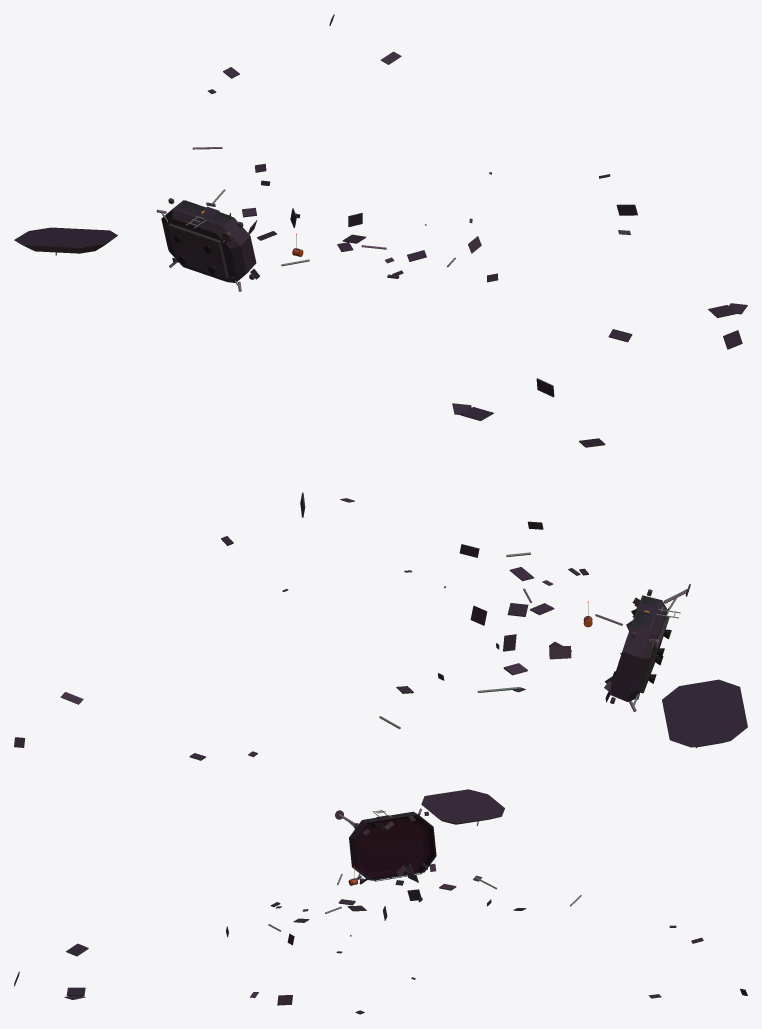
Rendered from miller_wreck.glb.
3 renders of one model, top to bottom at view 1: azimuth 30°, elevation 25°; view 2: azimuth 150°, elevation 25°; view 3: azimuth 270°, elevation 25°, orthographic. The views are drawn at different scales.
Visible parts, largest first — view 1: wreck_hull__m, wreck_debris__m, wreck_roof__m; view 2: wreck_roof__m, wreck_hull__m, wreck_debris__m; view 3: wreck_hull__m, wreck_roof__m, wreck_debris__m.
Part boxes in pixels (<box>): wreck_hull__m: <box>156,198,259,291</box>; wreck_debris__m: <box>192,14,747,349</box>; wreck_roof__m: <box>14,227,117,255</box>; wreck_roof__m: <box>662,679,747,748</box>; wreck_hull__m: <box>604,584,690,711</box>; wreck_debris__m: <box>14,378,622,760</box>; wreck_hull__m: <box>335,808,436,884</box>; wreck_roof__m: <box>421,789,504,825</box>; wreck_debris__m: <box>14,870,747,1014</box>.
Bounding box in the file's own units: 40.79 × 5.38 × 58.52.
